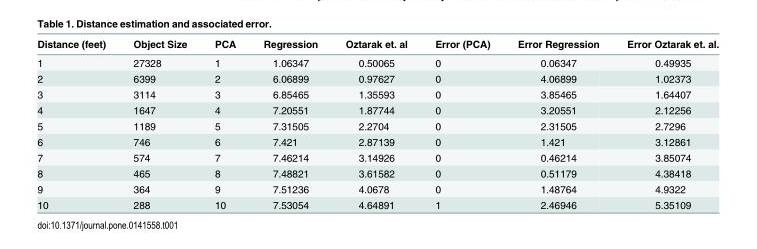table: (36, 37, 718, 210)
table column: (503, 37, 612, 210), (612, 37, 718, 210), (330, 37, 420, 210), (420, 37, 503, 210), (36, 37, 118, 210), (118, 37, 200, 210), (249, 37, 330, 210), (200, 37, 249, 210)
table column header: (36, 37, 718, 52)
table row: (36, 52, 718, 70), (36, 70, 718, 86), (36, 101, 718, 117), (36, 117, 718, 133), (36, 133, 718, 149), (36, 164, 718, 180), (36, 180, 718, 196), (36, 37, 718, 52), (36, 86, 718, 101), (36, 149, 718, 164), (36, 196, 718, 210)
